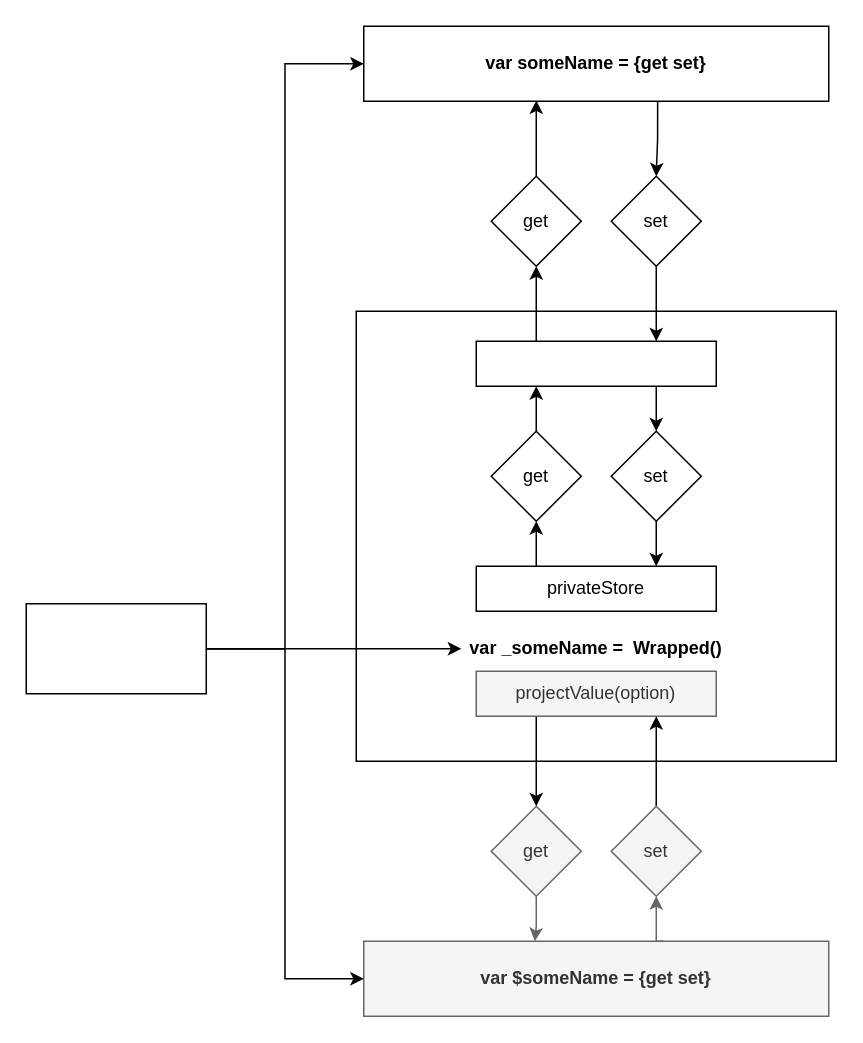
Image size: 863x1043. Some labels were removed from this diagram. Here are the shapes that lost their labels. From the top down, the centre of each, then its label:
At pixel 595 363: "wrappedValue".
At pixel 115 648: "Complier".
